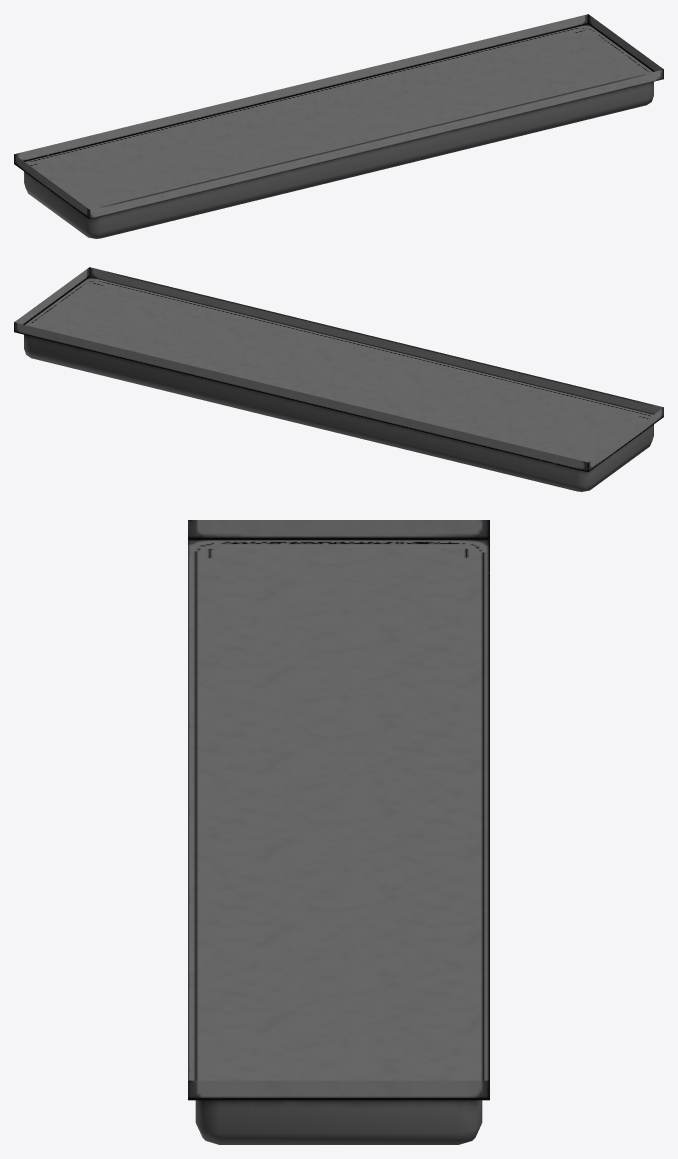
Rendered from RoofLamp.fbx.
3 views of the same model, one above another, from view 1: azimuth 30°, elevation 25°; view 2: azimuth 150°, elevation 25°; view 3: azimuth 270°, elevation 25° (orthographic). The views are drawn at different scales.
Parts seen in each view (by area): view 1: RoofLamp; view 2: RoofLamp; view 3: RoofLamp.
Boxes of the visible parts, x1,y1,x2,y2 form: RoofLamp: (14, 14, 663, 238); RoofLamp: (14, 267, 663, 491); RoofLamp: (188, 520, 489, 1144).
Bounding box in the file's own units: 1.88 × 0.1201 × 0.4286.
